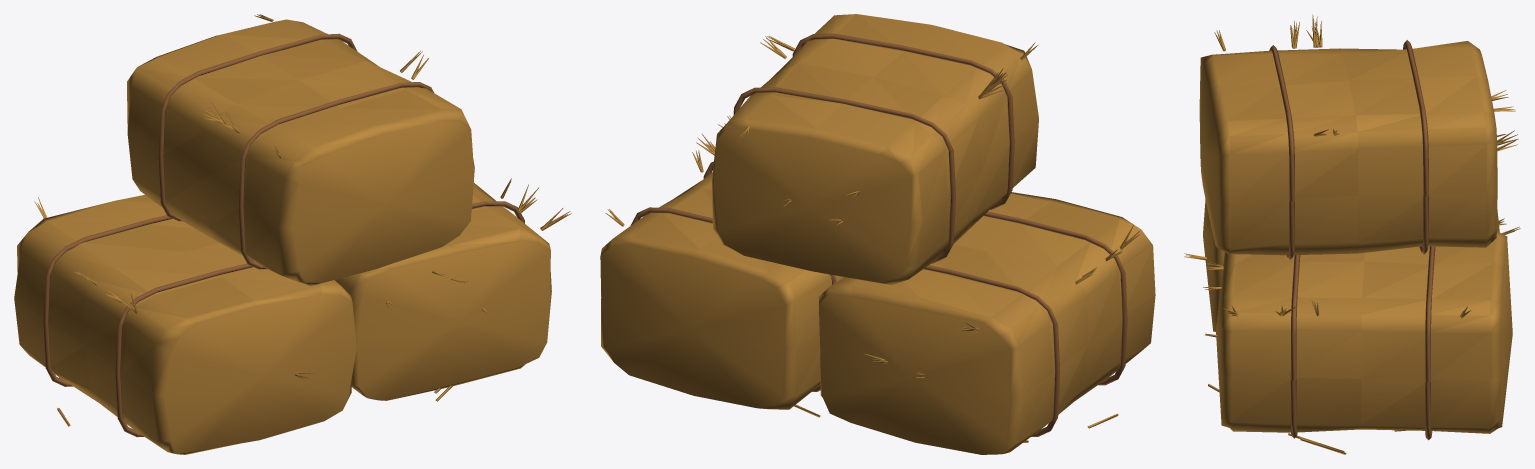
Rendered from prop_hay_bale_a.glb.
The picture shows the model from 3 angles, left to right: view 1: azimuth 30°, elevation 25°; view 2: azimuth 150°, elevation 25°; view 3: azimuth 270°, elevation 25°; orthographic projection. The views are drawn at different scales.
Visible parts, largest first — view 1: prop_hay_bale_a_mesh; view 2: prop_hay_bale_a_mesh; view 3: prop_hay_bale_a_mesh.
Boxes of the visible parts, bbox=[...] form: prop_hay_bale_a_mesh: bbox=[14, 14, 571, 454]; prop_hay_bale_a_mesh: bbox=[600, 14, 1155, 454]; prop_hay_bale_a_mesh: bbox=[1184, 14, 1520, 454].
Bounding box in the file's own units: 1.93 × 1.26 × 1.3.
